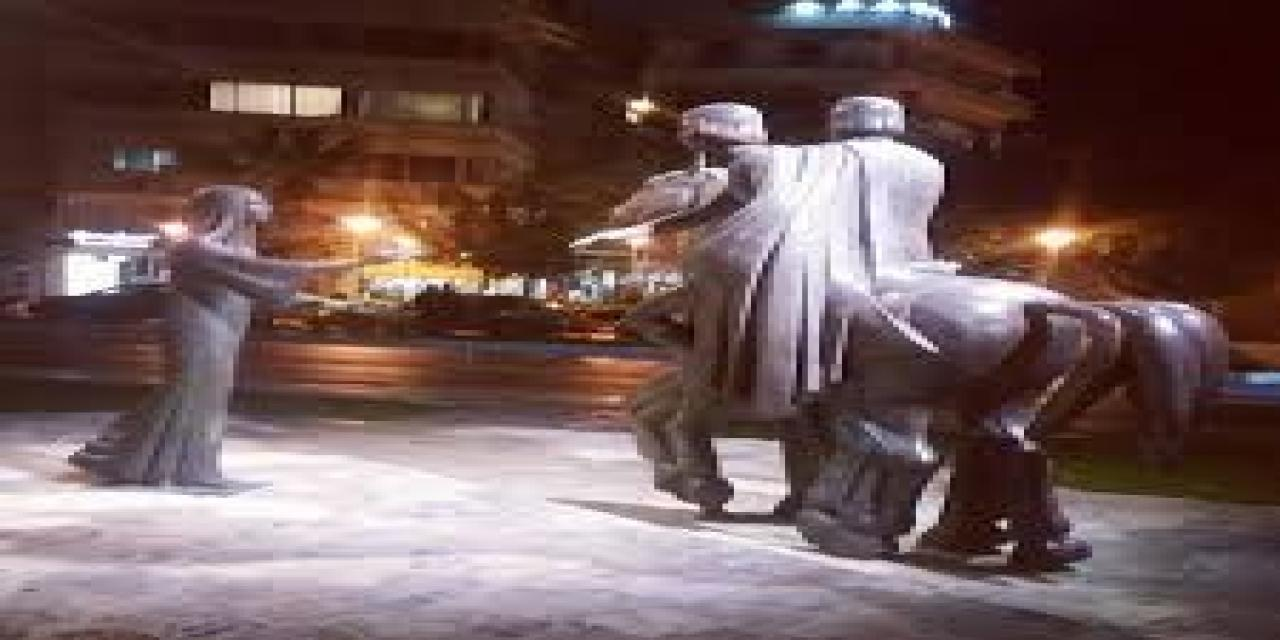Aretousa: (64, 99, 1232, 577)
